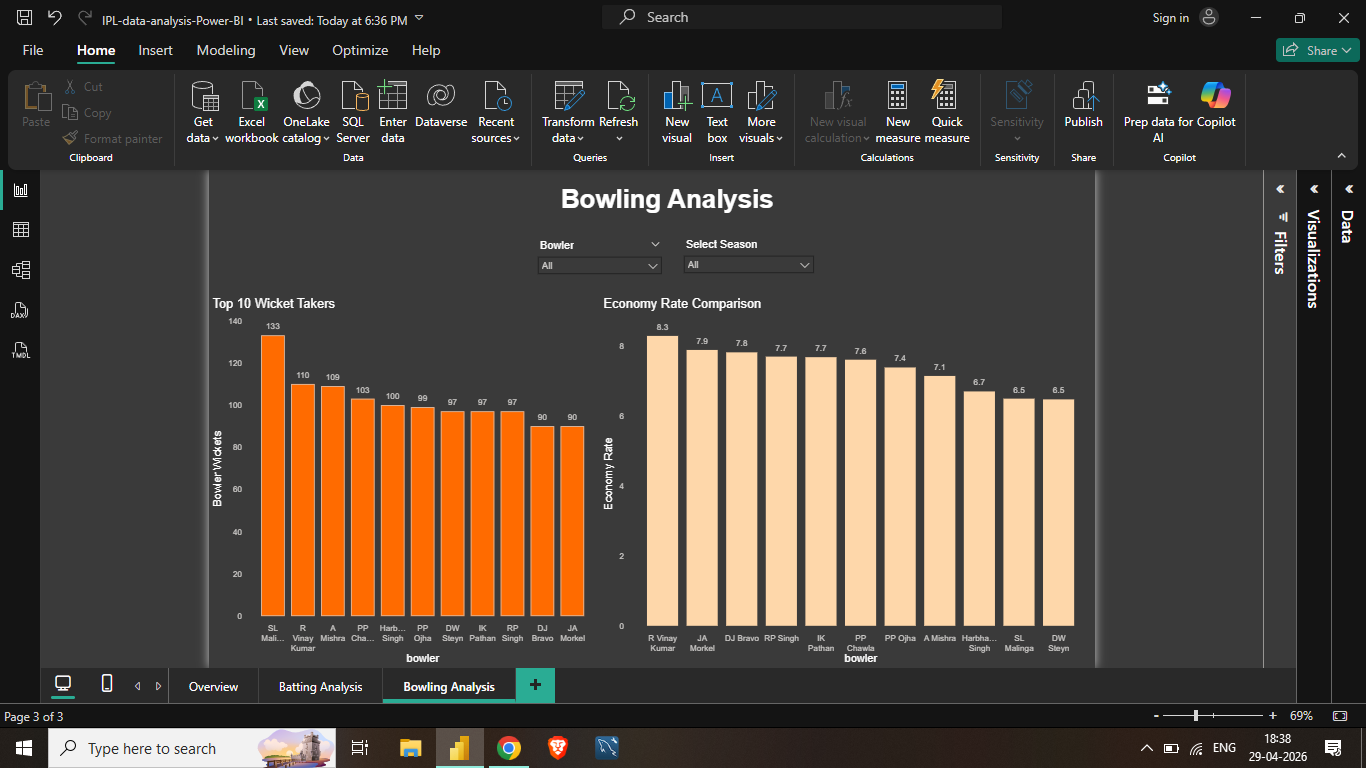

Layout of this report page (visuals, bound fields, positions):
{"tool":"powerbi","page":{"name":"Bowling Analysis","canvas":[1280,720],"ordinal":2},"visuals":[{"type":"columnChart","title":"Top 10 Wicket Takers","fields":{"Category":["ipl_analysis deliveries.bowler"],"Y":["ipl_analysis deliveries.Bowler Wickets"]},"box":[0,182.2,565.3,537.8],"z":0},{"type":"columnChart","title":"Economy Rate Comparison","fields":{"Category":["ipl_analysis deliveries.bowler"],"Y":["ipl_analysis deliveries.Economy Rate"]},"box":[565.3,182.2,714.2,537.8],"z":1000},{"type":"textbox","box":[466.2,16.5,393.7,62.6],"z":2000},{"type":"slicer","fields":{"Values":["ipl_analysis deliveries.bowler"]},"box":[466.2,95.5,199.3,87.3],"z":3000},{"type":"slicer","fields":{"Values":["ipl_analysis matches.season"]},"box":[677.1,93.9,207.6,62.6],"z":4000}]}

Visuals, with their boxes on the page's 1280x720 design canvas (x1, y1, x2, y2). These are canvas units, not pixel positions in the 1366x768 screenshot, which may show the page scaled, cropped or inside an application window:
"Top 10 Wicket Takers" columnChart: <box>0,182,565,720</box>
"Economy Rate Comparison" columnChart: <box>565,182,1280,720</box>
textbox: <box>466,16,860,79</box>
slicer - ipl_analysis deliveries.bowler: <box>466,96,666,183</box>
slicer - ipl_analysis matches.season: <box>677,94,885,156</box>
